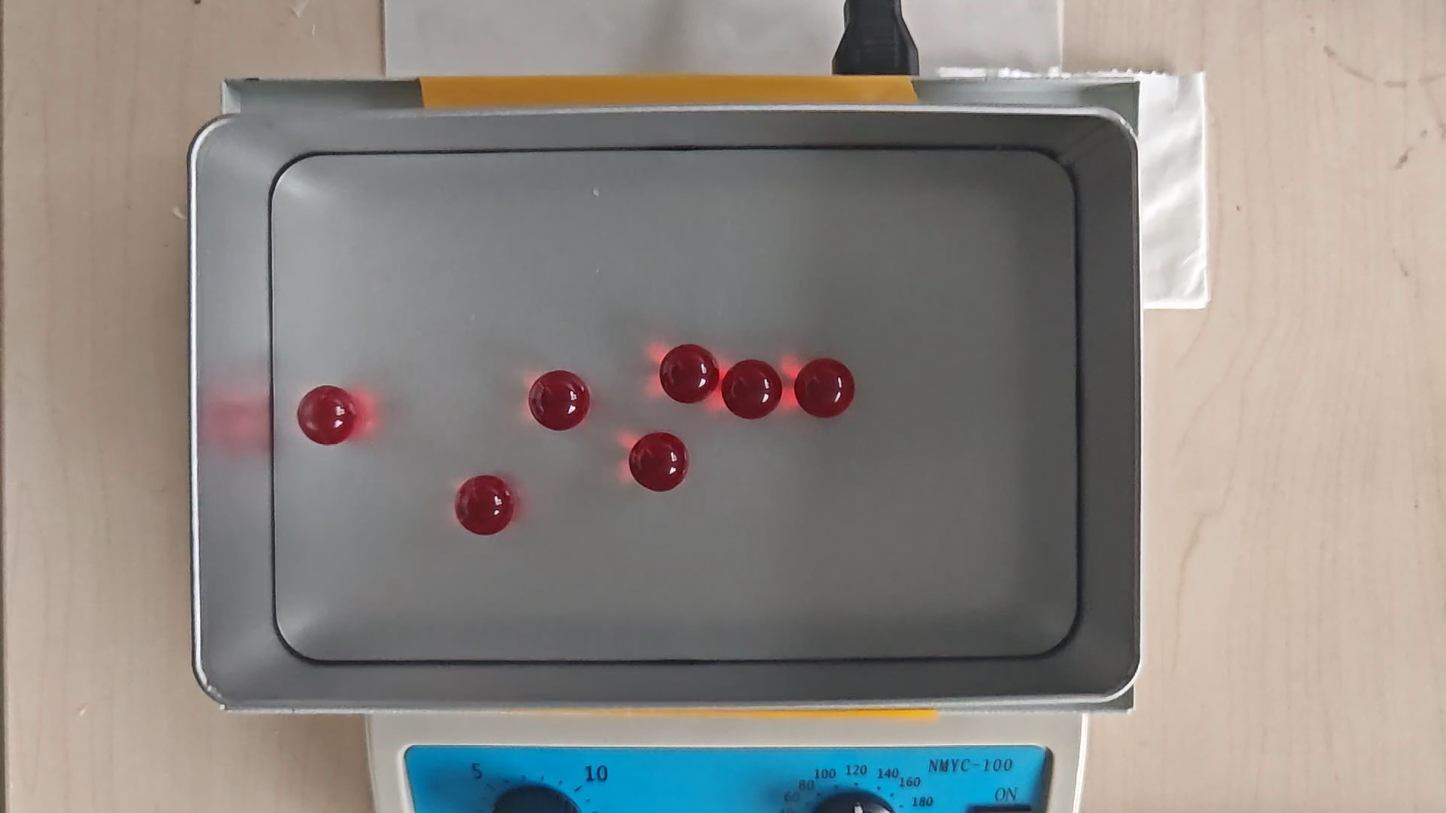ball: (529, 369, 589, 431), (722, 358, 782, 419), (296, 384, 354, 447), (632, 431, 690, 493), (659, 343, 717, 404), (796, 357, 854, 416), (455, 475, 512, 535)
container: (268, 148, 1078, 662)
